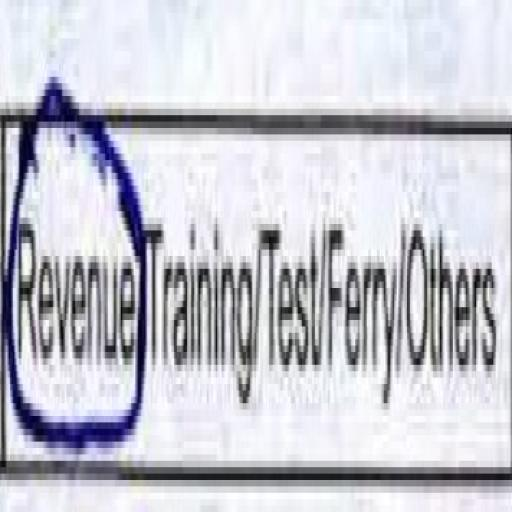check: (0, 25, 144, 512)
